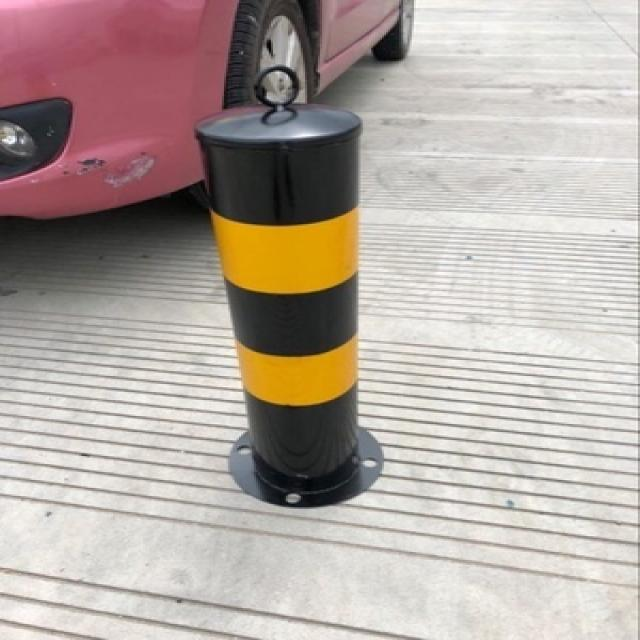car: (0, 0, 429, 222)
warning_column: (182, 64, 390, 502)
